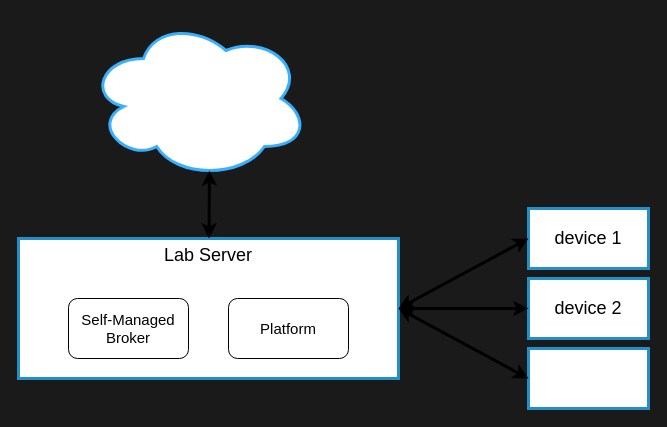
Image size: 667x427. Some labels were removed from this diagram. The centre of each missing label's shape, as x and y in pixels:
"device 3" goes at (588,378).
"Network" goes at (198,98).
